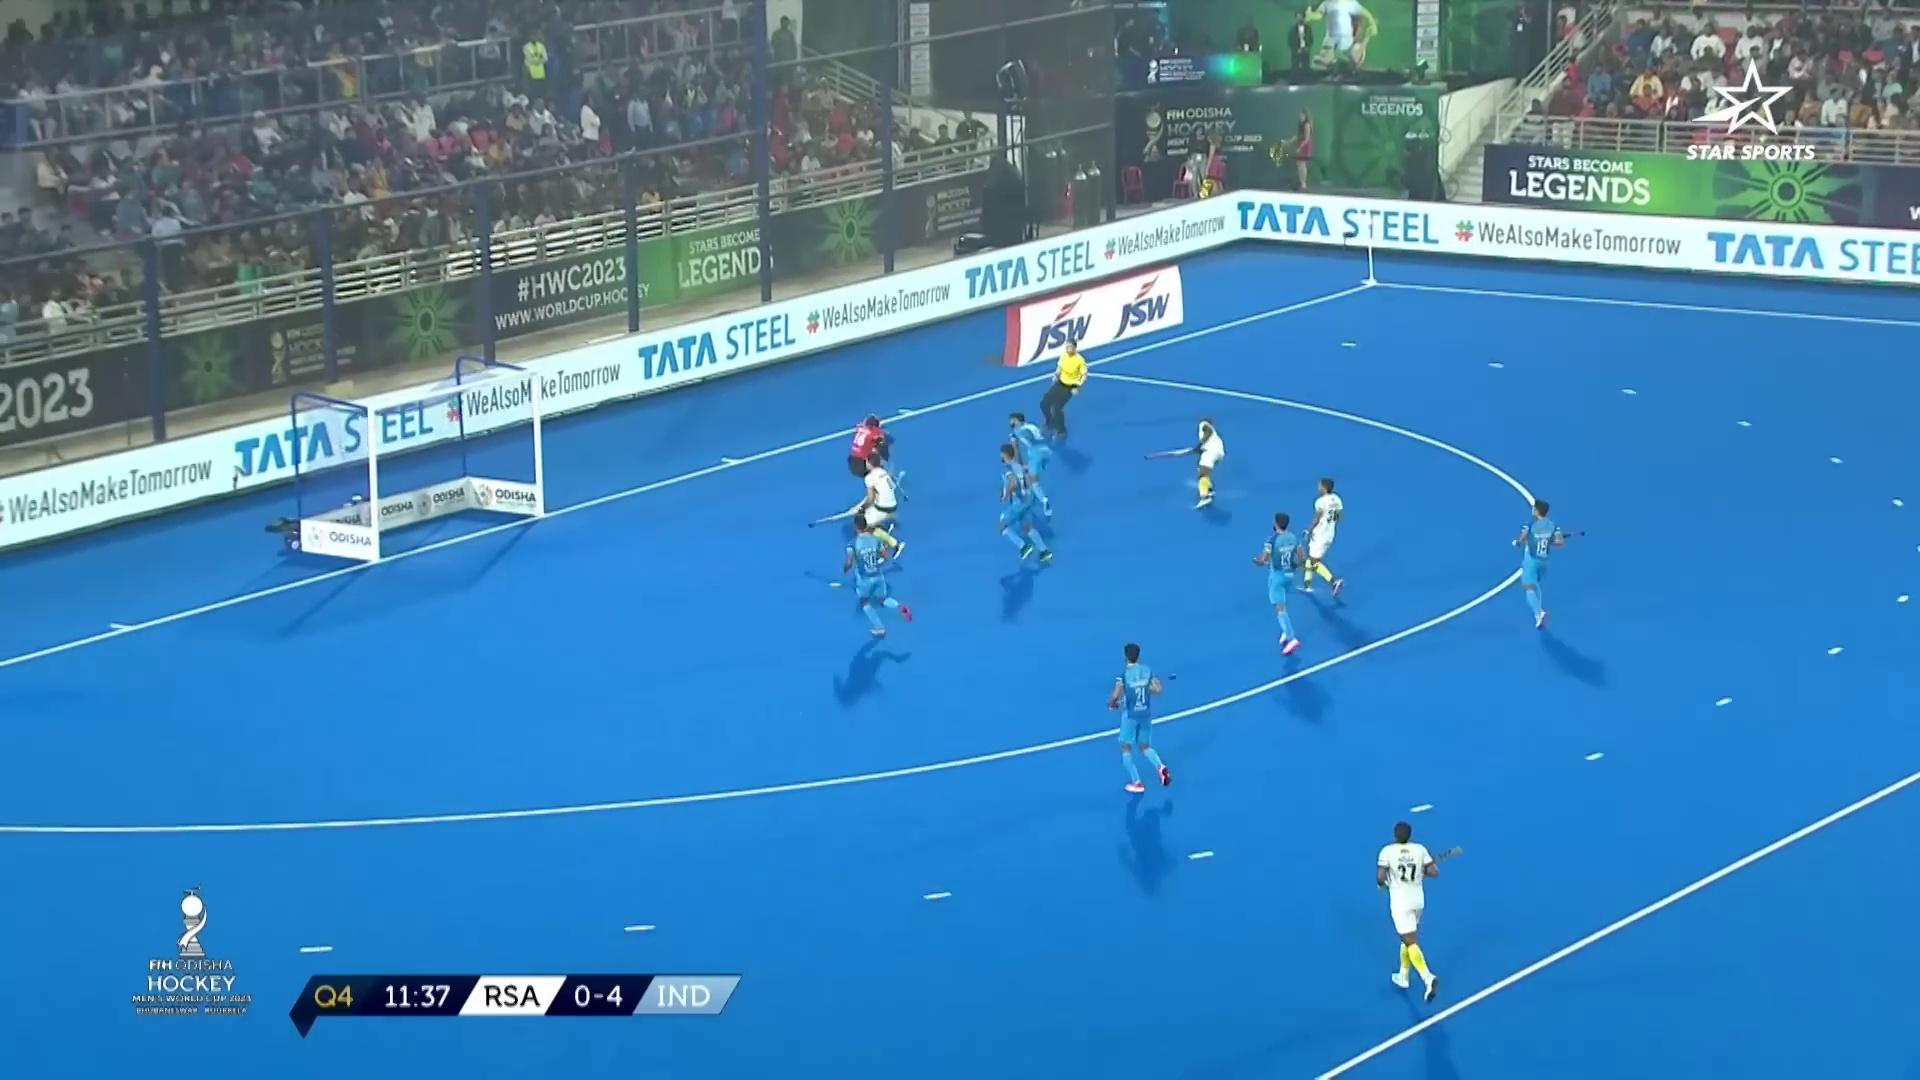ball: (811, 562, 861, 608)
